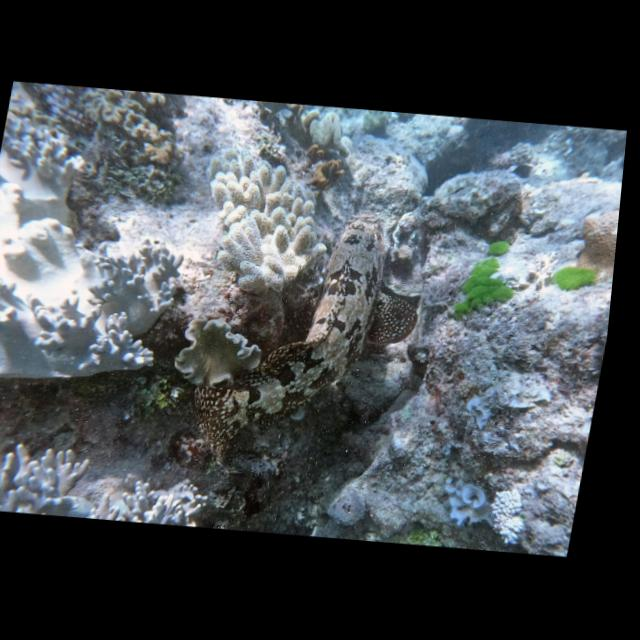Groupers: (173, 193, 435, 475)
